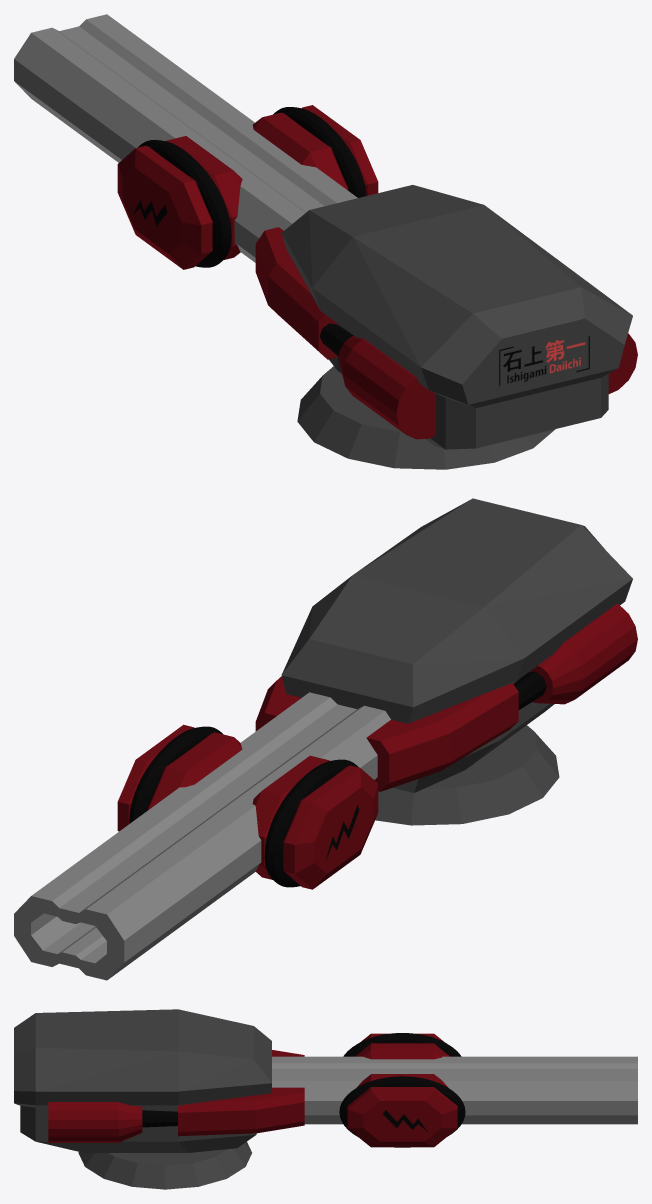
Rendered from Laser Death Beam.obj.
The picture shows the model from 3 angles, top to bottom: view 1: azimuth 30°, elevation 25°; view 2: azimuth 150°, elevation 25°; view 3: azimuth 270°, elevation 25°; orthographic projection. The views are drawn at different scales.
Visible parts, largest first — view 1: Laser_Death_Beam; view 2: Laser_Death_Beam; view 3: Laser_Death_Beam.
Boxes of the visible parts, box(x1,y1,x2,y2) form: Laser_Death_Beam: box(14, 14, 637, 469); Laser_Death_Beam: box(14, 498, 637, 980); Laser_Death_Beam: box(14, 1009, 637, 1189).
Size of the model in its own units: 4.3 by 3.17 by 14.64.
Materials: 1 (1 with a texture image).
